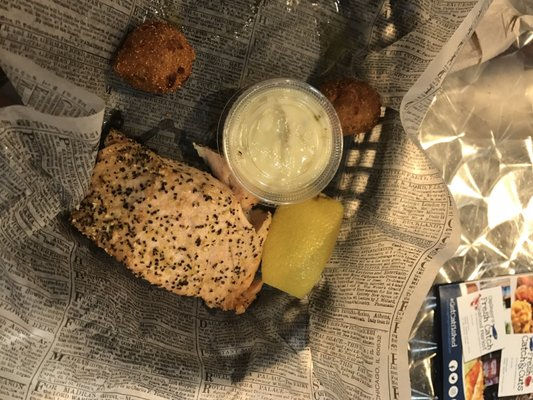pasta: (428, 273, 533, 400)
